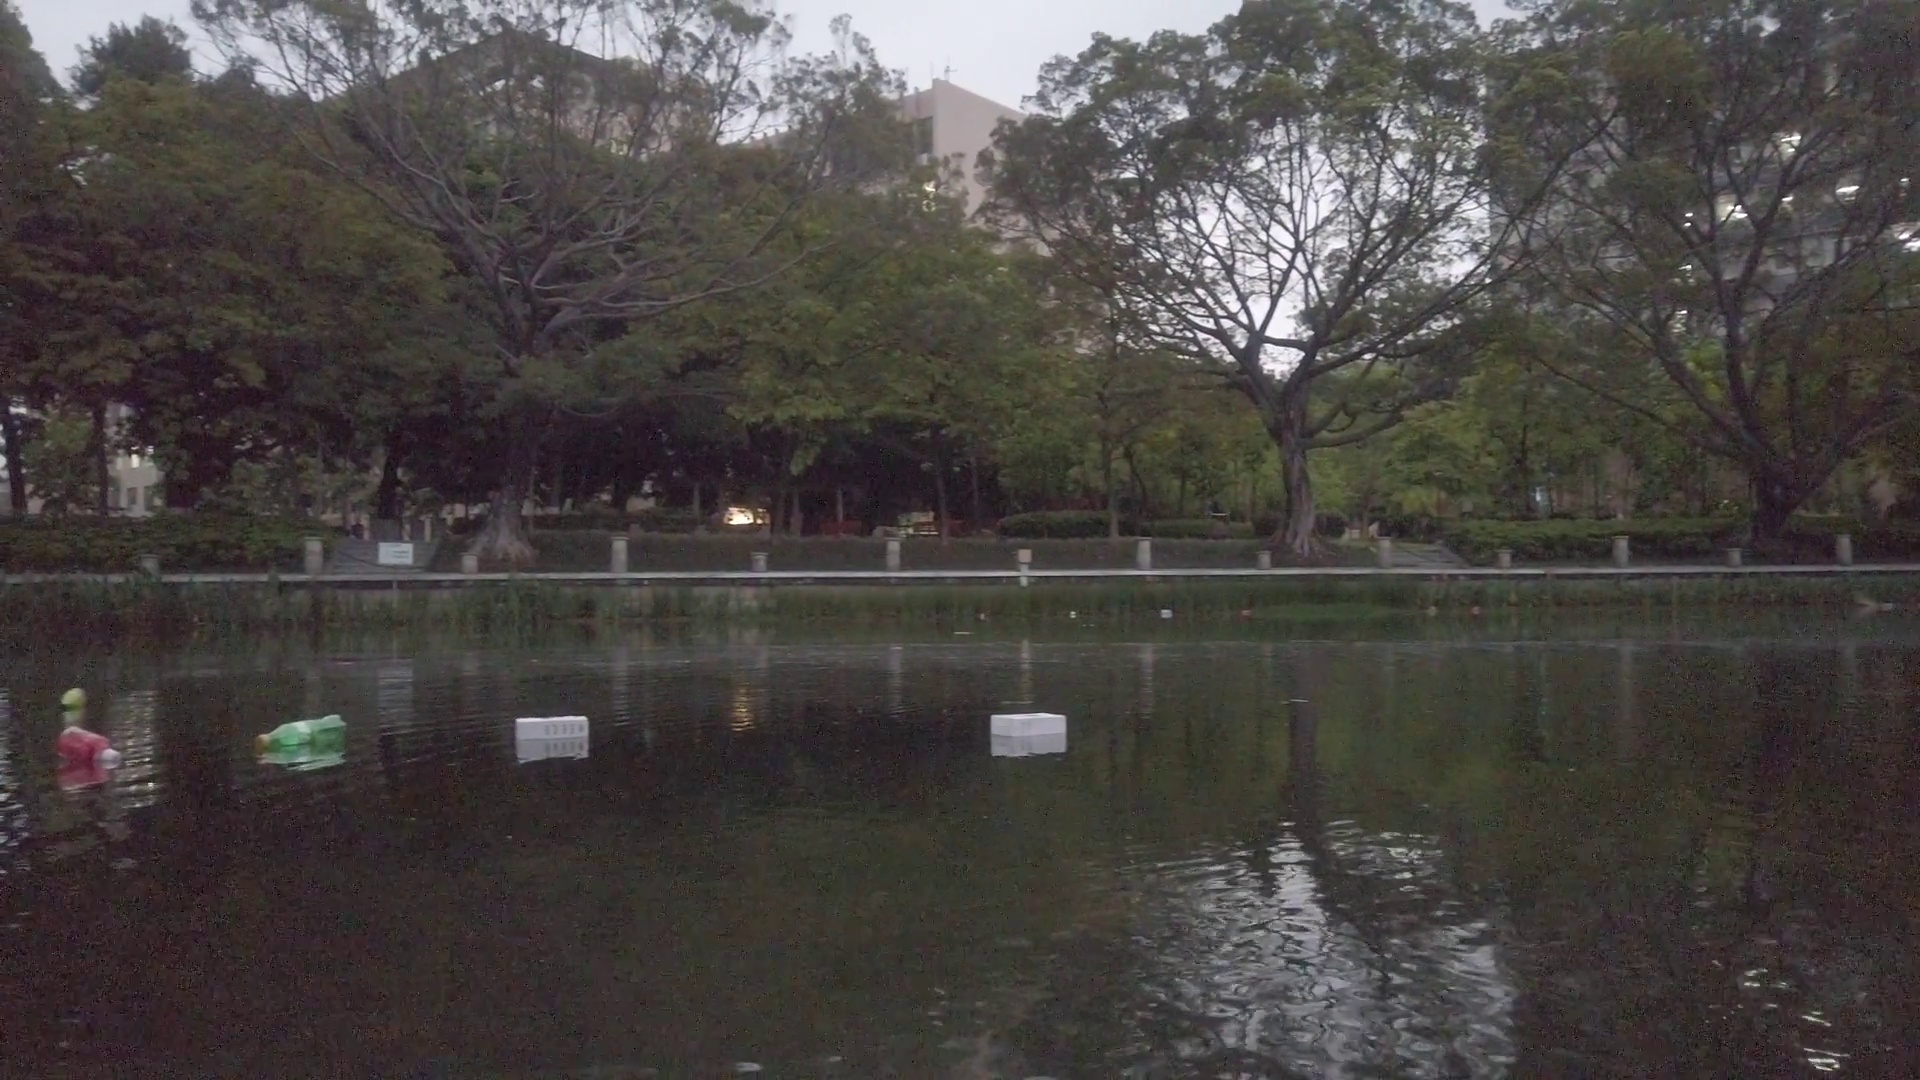bottle: (255, 715, 347, 754), (57, 725, 123, 770), (57, 686, 84, 715)
carton: (988, 711, 1069, 738), (516, 715, 588, 740), (1160, 607, 1174, 617)
